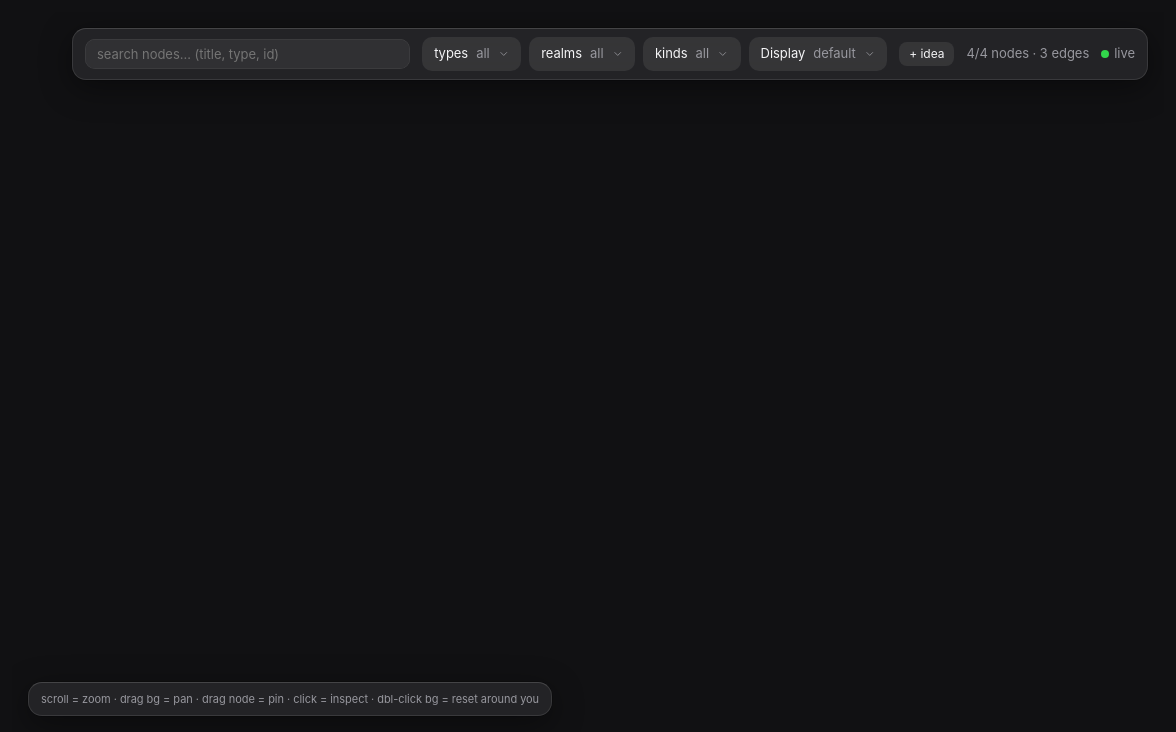
Test case: Map › builds its facets from the payload, never from a list in the code
Expected: the text "4/4 nodes · 3 edges" is shown, [966, 44, 1089, 64]
Step 1. Click the button "realms all" → (582, 54), box [529, 37, 635, 70]
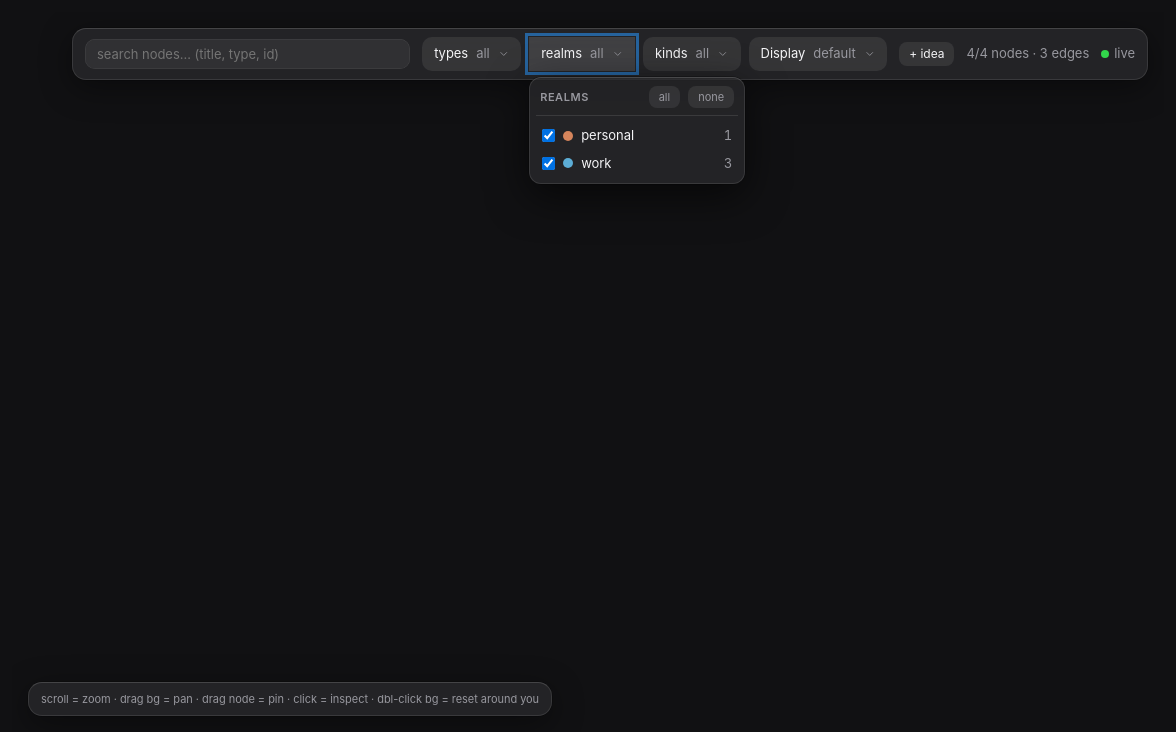
Expected: the checkbox labelled "work 3" is shown, [542, 157, 555, 170]
Expected: the checkbox labelled "personal 1" is shown, [542, 129, 555, 142]
